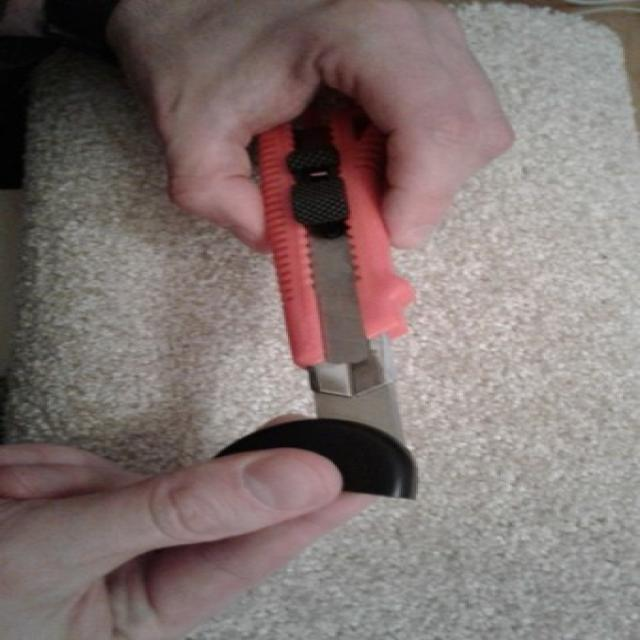cutter: (200, 82, 427, 507)
